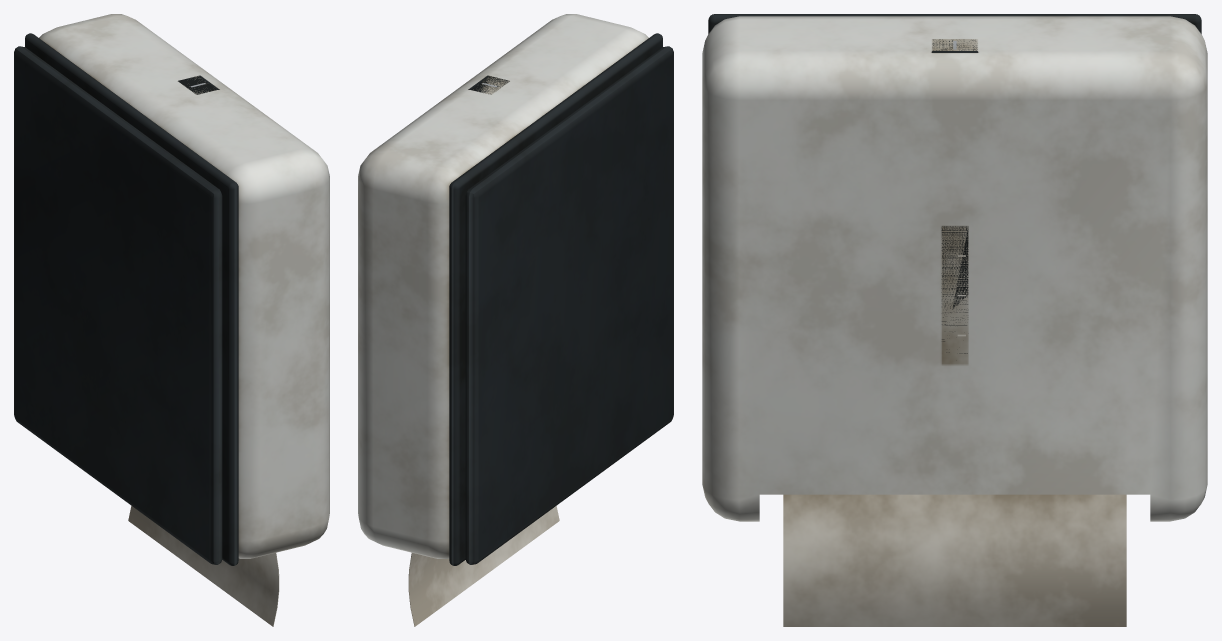
The model's file is papeleira_toalha_sujo_realista.glb.
The picture shows the model from 3 angles, left to right: view 1: azimuth 30°, elevation 25°; view 2: azimuth 150°, elevation 25°; view 3: azimuth 270°, elevation 25°; orthographic projection. The views are drawn at different scales.
Visible parts, largest first — view 1: Papeleira_toalha; view 2: Papeleira_toalha; view 3: Papeleira_toalha.
Boxes of the visible parts, x1=… form: Papeleira_toalha: x1=14, y1=14, x2=329, y2=626; Papeleira_toalha: x1=358, y1=14, x2=673, y2=626; Papeleira_toalha: x1=702, y1=14, x2=1207, y2=626.
Size of the model in its own units: 0.1 by 0.38 by 0.3.
1 material, 1 textured.
